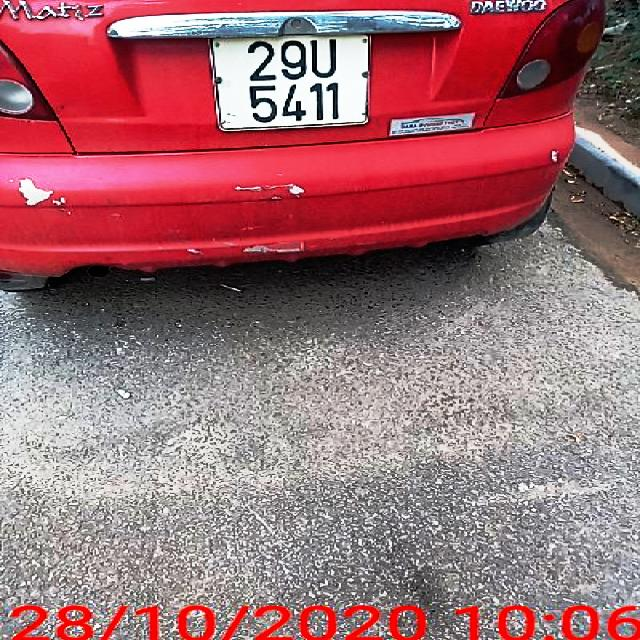license_plate: (216, 35, 370, 130)
